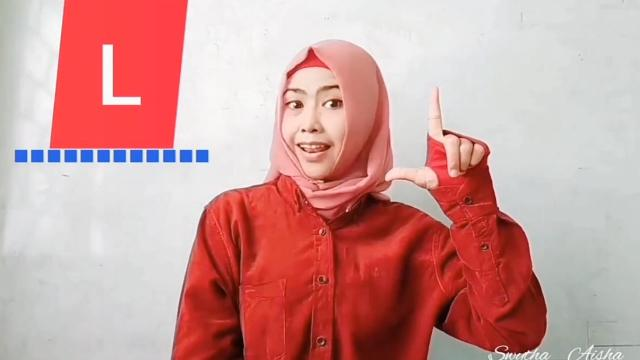L: (382, 83, 494, 197)
